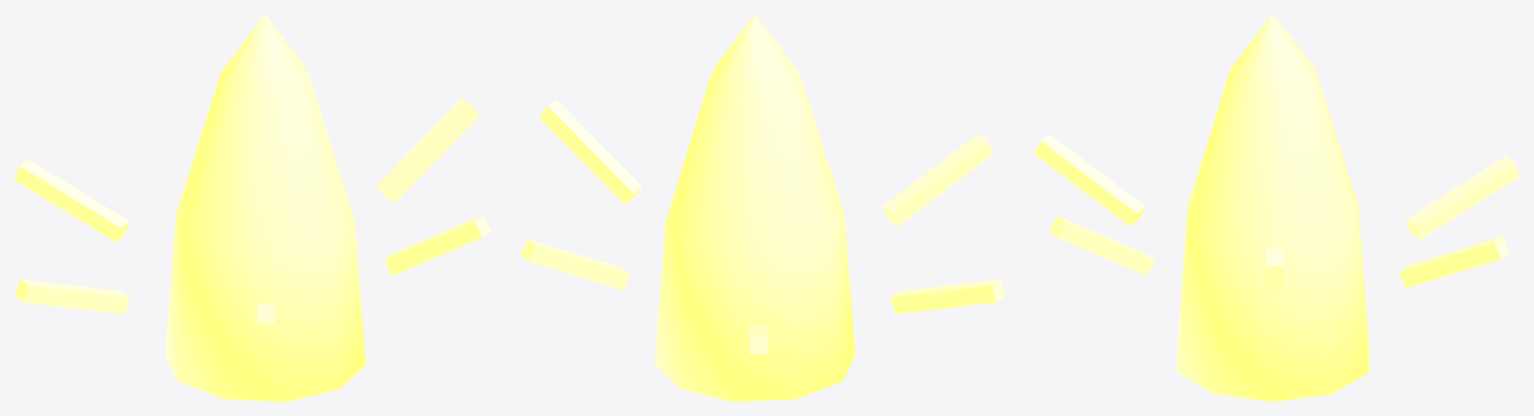
Rendered from fruit-bamboo-shocked.gltf.
The picture shows the model from 3 angles, left to right: view 1: azimuth 30°, elevation 25°; view 2: azimuth 150°, elevation 25°; view 3: azimuth 270°, elevation 25°; orthographic projection.
Bounding box in the file's own units: 0.5875 × 0.425 × 0.5421.
